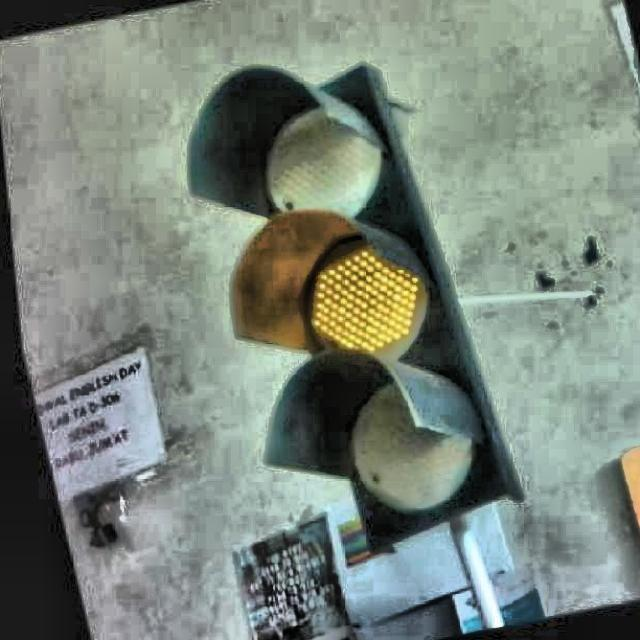yellow: (260, 95, 484, 546)
